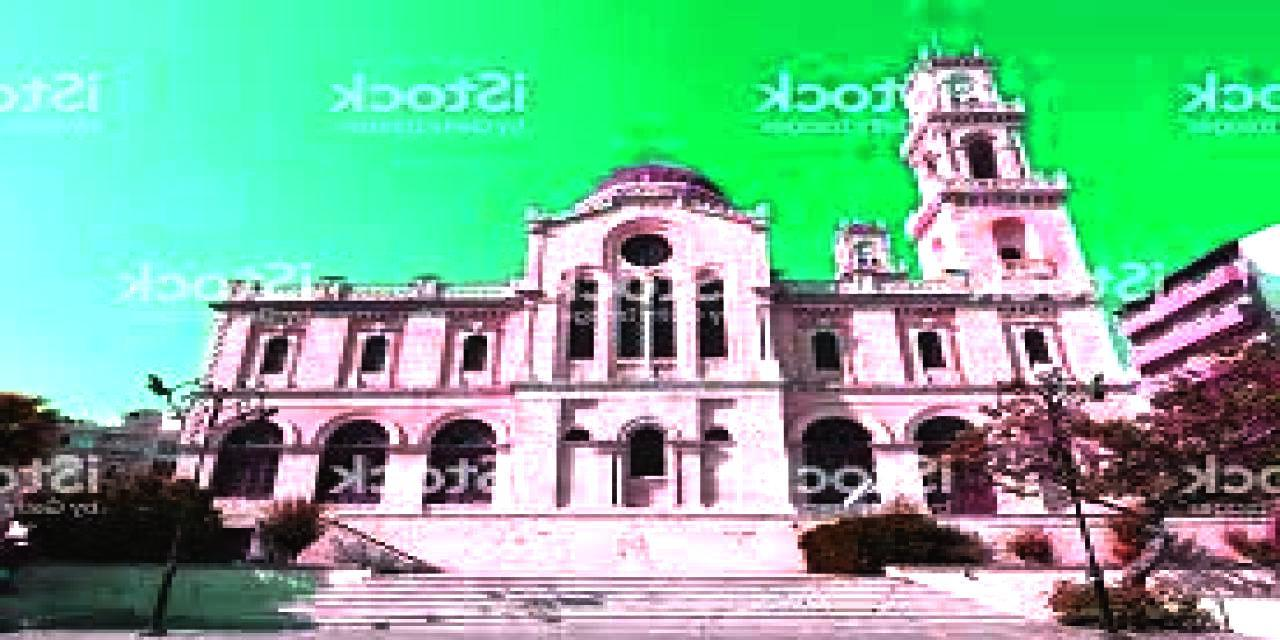Agios Minas: (164, 35, 1158, 570)
